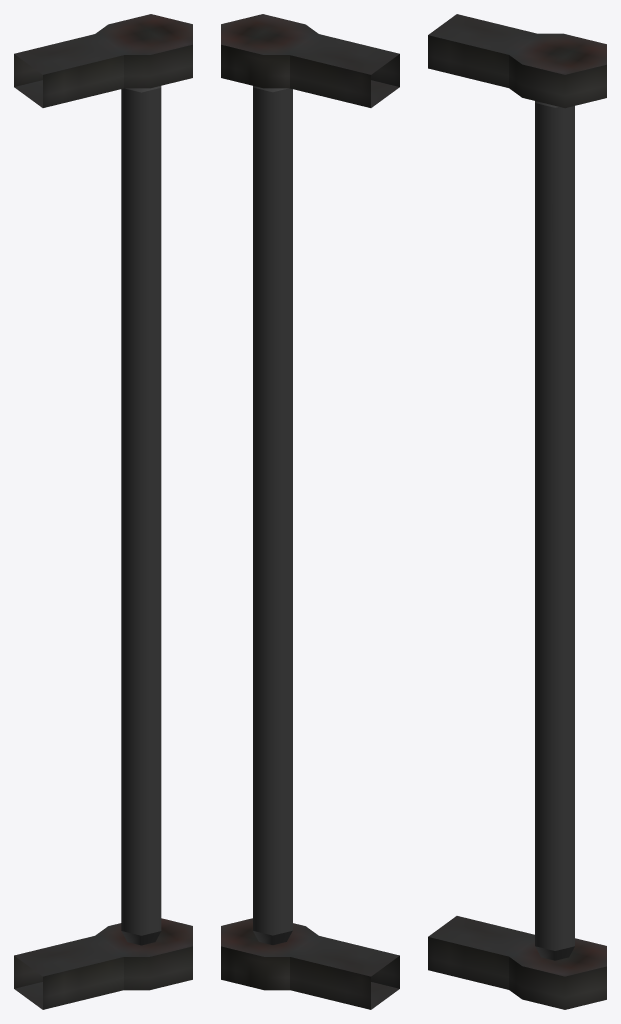
File: Light_short.FBX
3 renders of one model, left to right at view 1: azimuth 30°, elevation 25°; view 2: azimuth 150°, elevation 25°; view 3: azimuth 330°, elevation 25°, orthographic.
Parts seen in each view (by area): view 1: Light_short, Light_1_base; view 2: Light_short, Light_1_base; view 3: Light_short, Light_1_base.
Boxes of the visible parts, bbox=[...] form: Light_short: bbox=[121, 86, 161, 945]; Light_1_base: bbox=[14, 14, 192, 1009]; Light_short: bbox=[253, 86, 292, 944]; Light_1_base: bbox=[221, 14, 399, 1009]; Light_short: bbox=[535, 101, 574, 960]; Light_1_base: bbox=[428, 14, 606, 1009].
Bounding box in the file's own units: 34.97 × 190 × 15.42.
